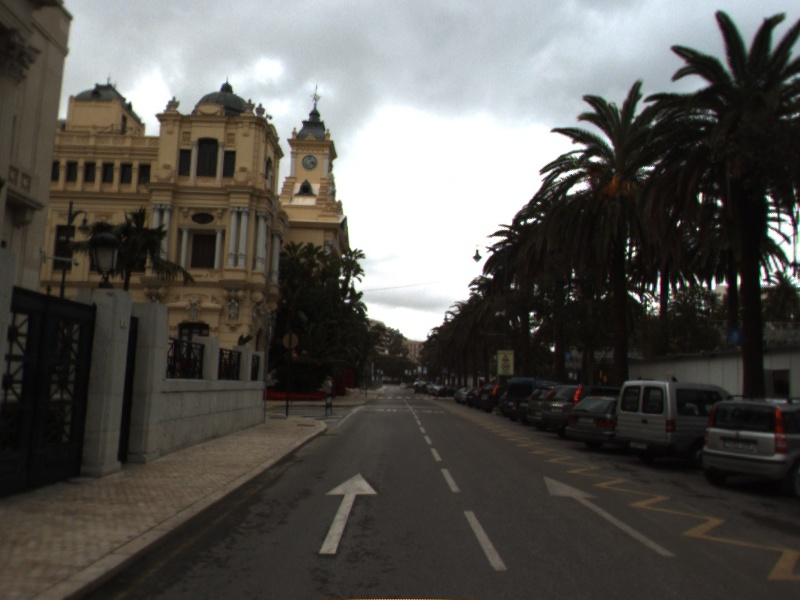STRAIGHT: (542, 474, 676, 558), (317, 471, 379, 555)
